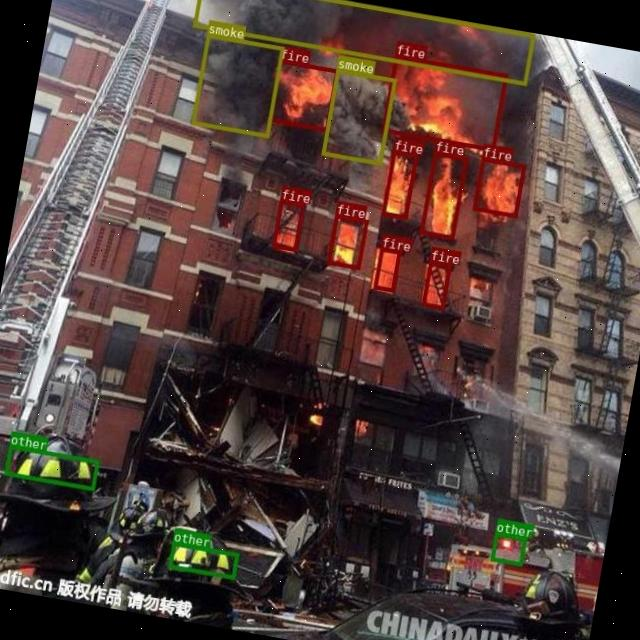fire: (379, 54, 506, 150), (267, 58, 338, 130), (419, 150, 468, 238), (472, 156, 526, 217), (380, 148, 418, 218), (325, 213, 367, 269), (271, 200, 303, 250), (421, 259, 451, 308), (372, 246, 400, 292)
smoke: (192, 0, 534, 85), (190, 33, 283, 136), (321, 68, 396, 164)
